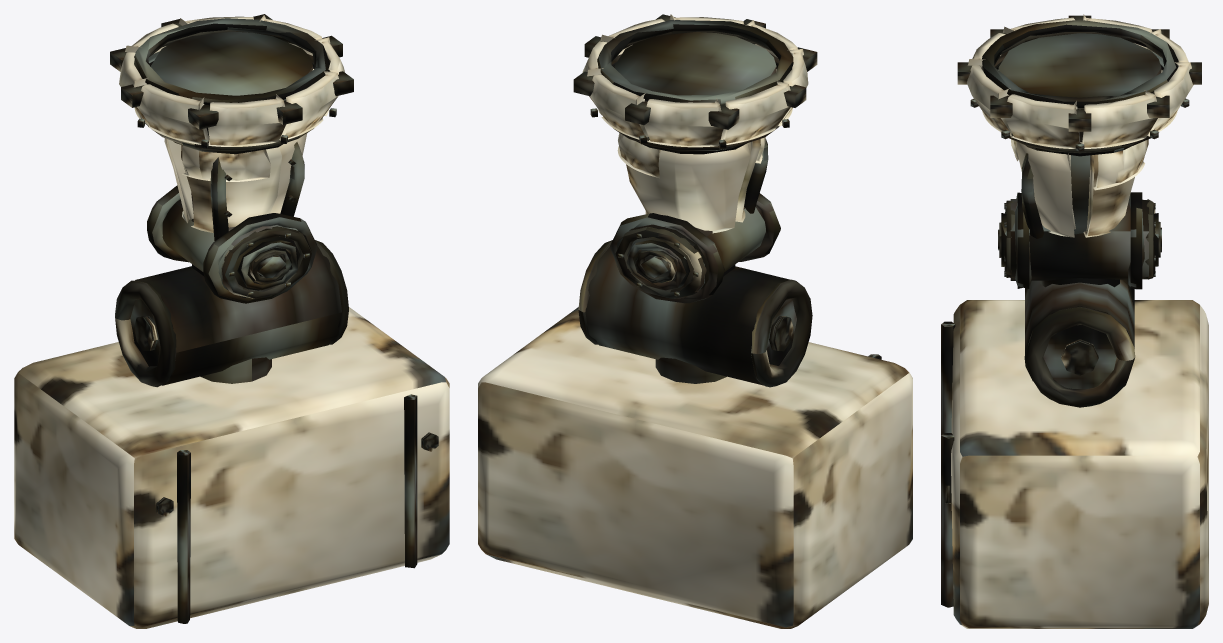
The model's file is arm-hammer-icon-v1.glb.
The picture shows the model from 3 angles, left to right: view 1: azimuth 30°, elevation 25°; view 2: azimuth 150°, elevation 25°; view 3: azimuth 270°, elevation 25°; orthographic projection.
Parts seen in each view (by area): view 1: arm-hammer-icon-v1-ceramic, arm-hammer-icon-v1-steel, arm-hammer-icon-v1-brass; view 2: arm-hammer-icon-v1-ceramic, arm-hammer-icon-v1-steel, arm-hammer-icon-v1-brass; view 3: arm-hammer-icon-v1-ceramic, arm-hammer-icon-v1-steel, arm-hammer-icon-v1-brass.
Part boxes in pixels (x1,y1,x2,y2): arm-hammer-icon-v1-ceramic: (14,15,449,628); arm-hammer-icon-v1-steel: (130,18,417,623); arm-hammer-icon-v1-brass: (110,14,438,516); arm-hammer-icon-v1-ceramic: (478,14,912,628); arm-hammer-icon-v1-steel: (585,20,881,385); arm-hammer-icon-v1-brass: (573,14,817,387); arm-hammer-icon-v1-ceramic: (951,14,1208,628); arm-hammer-icon-v1-steel: (941,19,1189,607); arm-hammer-icon-v1-brass: (945,15,1201,503).
Size of the model in its own units: 0.7 by 1 by 0.488.
1 material, 1 textured.
